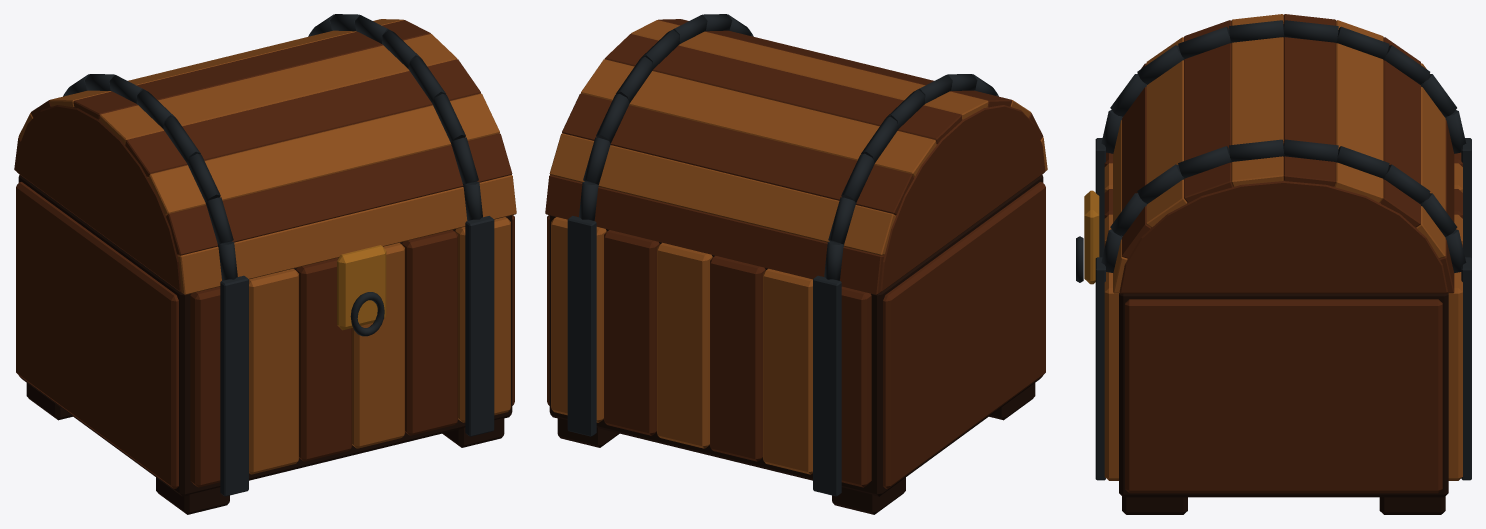
File: chest.obj
3 views of the same model, side by side, from view 1: azimuth 30°, elevation 25°; view 2: azimuth 150°, elevation 25°; view 3: azimuth 270°, elevation 25° (orthographic).
Parts seen in each view (by area): view 1: chest; view 2: chest; view 3: chest.
Boxes of the visible parts, x1,y1,x2,y2 form: chest: (14, 14, 516, 514); chest: (545, 14, 1047, 514); chest: (1076, 14, 1471, 514).
Bounding box in the file's own units: 1 × 1 × 1.
